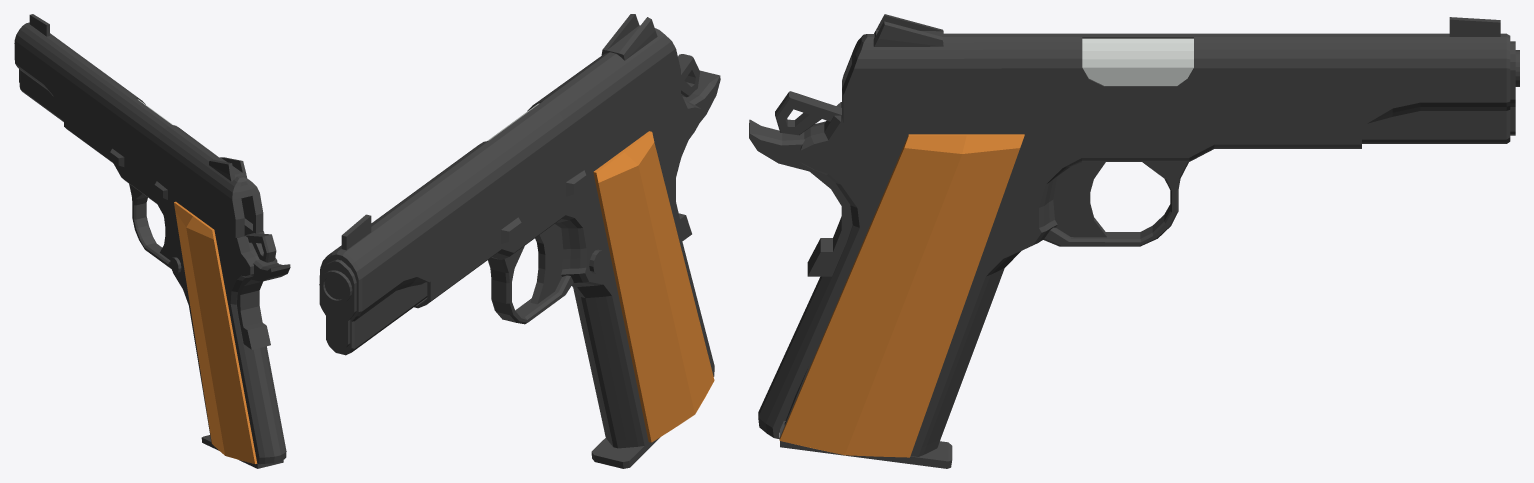
3 renders of one model, left to right at view 1: azimuth 30°, elevation 25°; view 2: azimuth 150°, elevation 25°; view 3: azimuth 270°, elevation 25°, orthographic. The views are drawn at different scales.
Visible parts, largest first — view 1: Cube.002, Cube, Cube.001, Cube.004; view 2: Cube.002, Cube, Cube.001, Cube.008, Cube.006, Cube.004, Cylinder; view 3: Cube.002, Cube, Cube.001, Cube.003, Cube.008, Cube.004, Cube.006.
Part boxes in pixels (bbox=[...]): Cube.002: bbox=[14, 14, 263, 237]; Cube: bbox=[64, 113, 290, 464]; Cube.001: bbox=[174, 201, 257, 463]; Cube.004: bbox=[244, 233, 276, 262]; Cube.002: bbox=[319, 14, 680, 355]; Cube: bbox=[414, 70, 720, 448]; Cube.001: bbox=[593, 131, 714, 442]; Cube.008: bbox=[530, 224, 563, 304]; Cube.006: bbox=[591, 437, 660, 468]; Cube.004: bbox=[678, 54, 699, 97]; Cylinder: bbox=[319, 270, 352, 304]; Cube.002: bbox=[842, 14, 1515, 143]; Cube: bbox=[749, 102, 1361, 456]; Cube.001: bbox=[779, 134, 1024, 457]; Cube.003: bbox=[1082, 38, 1193, 85]; Cube.008: bbox=[1053, 162, 1106, 237]; Cube.004: bbox=[775, 91, 842, 135]; Cube.006: bbox=[780, 369, 952, 468].
Bounding box in the file's own units: 0.9909 × 5.81 × 9.19.
